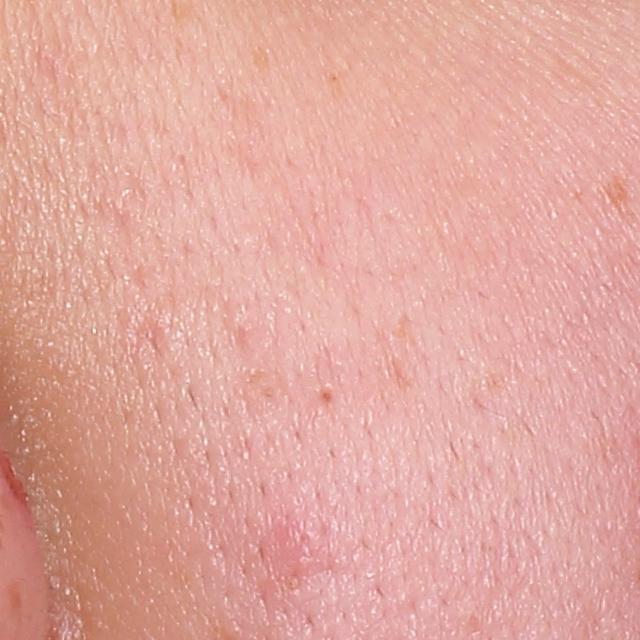comedo: (316, 382, 337, 405)
